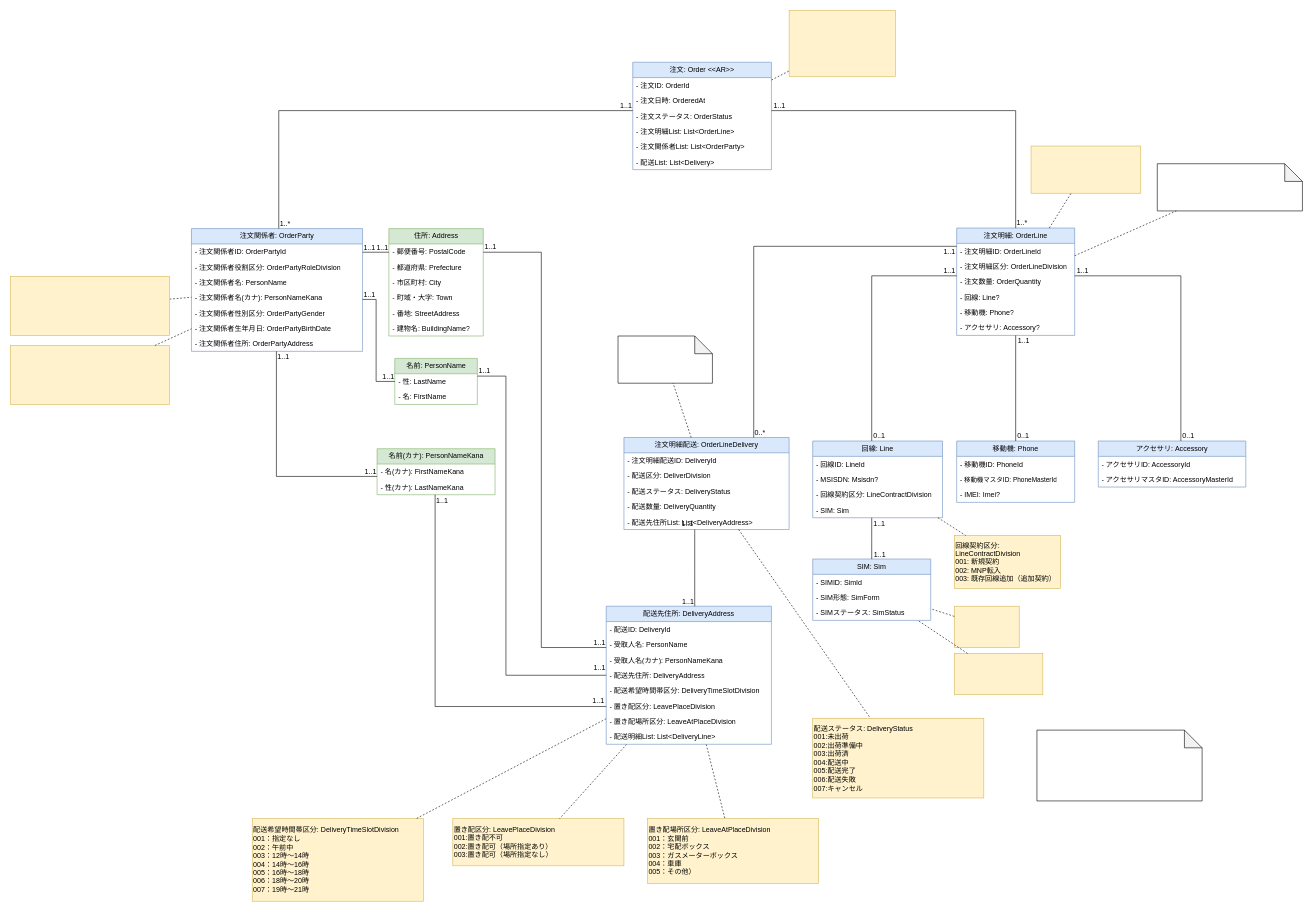
This 1313x912 diagram has some shape labels left out. The shapes that lost their labels are listed below. From the top down, each one's centre as x and y in pixels, then its label:
At (x=842, y=43): "注文ステータス: OrderStatus 001: 受付 002: 審査中 003: 手配中 004: 出荷待ち 005: 完了 006: キャンセル".
At (x=1085, y=169): "注文明細区分: OrderLineDivision 001: 回線 002: 移動機 003: アクセサリ".
At (x=1229, y=187): "注文明細 の生成時に区分整合を保証する".
At (x=90, y=305): "注文関係者役割: OrderIdPartyRole Division 001：注文者 002：契約者 003：利用者 004：請求者".
At (x=90, y=374): "注文関係者性別区分: OrderPartyGenderDivision 001:男性 002:女性 003:その他 009:不明".
At (x=664, y=359): "0件は配送不要注文を表す".
At (x=986, y=627): "SIM形態: SimForm 001 ：物理SIM 002 ： eSIM".
At (x=998, y=674): "SIMステータス: SimStatus 001： 白SIM( 未割当 ) 002： 黒SIM( 割当済 )".
At (x=1119, y=765): "[ドメインメモ] - SIM単体申込は回線注文として扱う - 回線のみ申込はMVPでは不可 - 分納を許可する".
